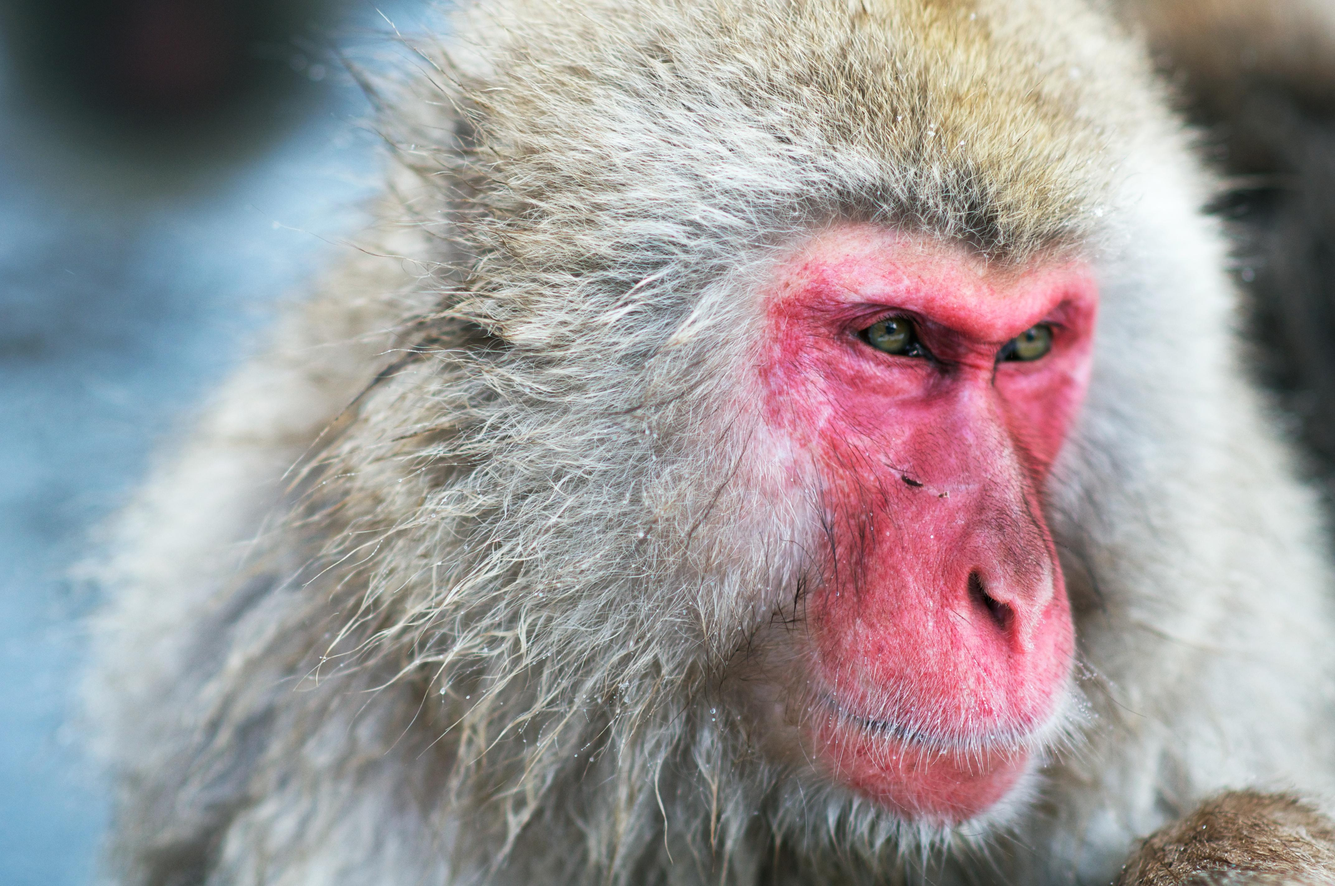monkey: (390, 51, 1108, 863)
